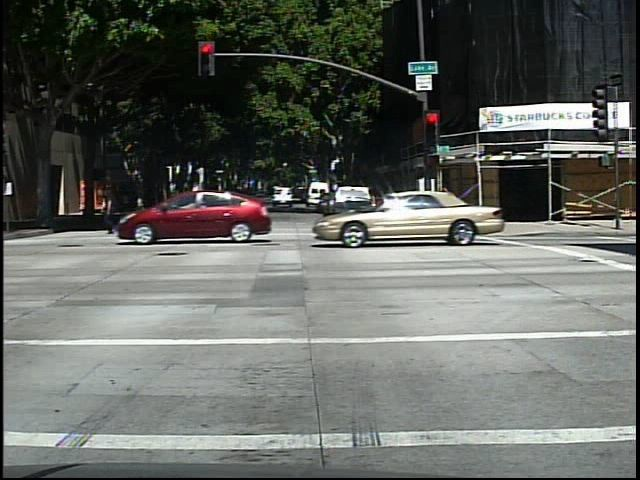person: (96, 184, 124, 236)
